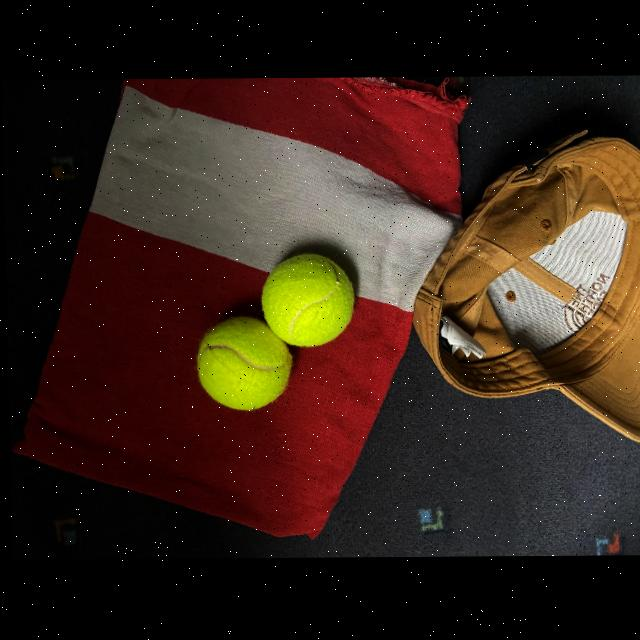Tennisball: (197, 316, 293, 411), (262, 253, 354, 347)
